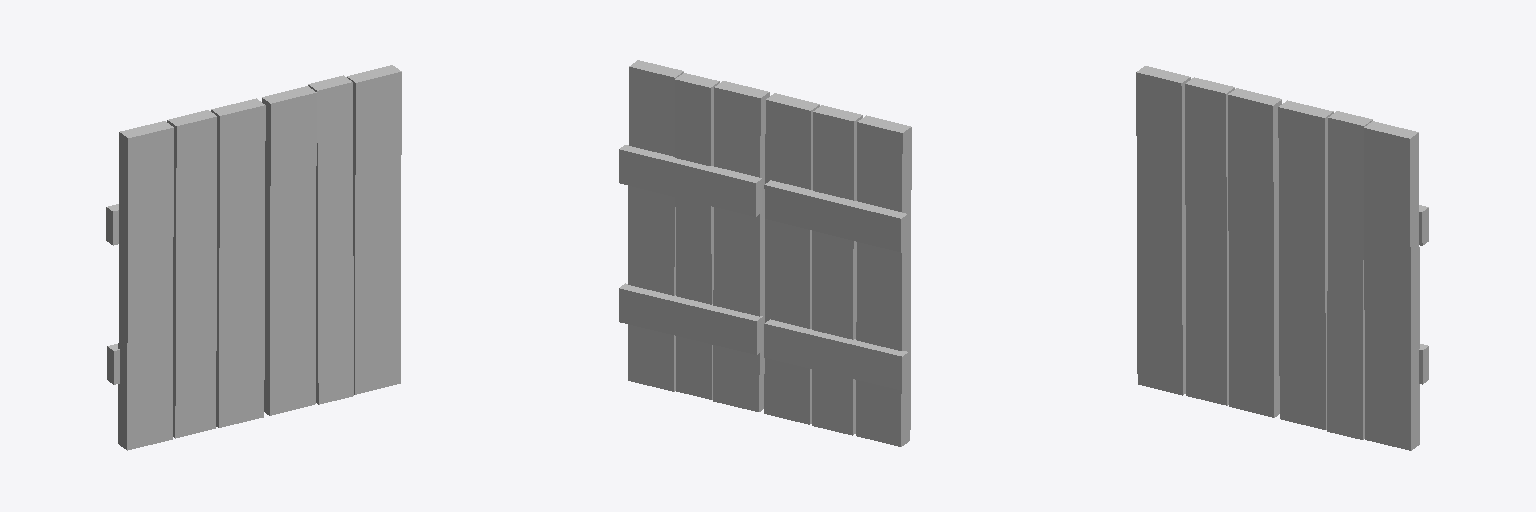
The model's file is WindowShutters_Wide_Flat_Closed.obj.
3 views of the same model, side by side, from view 1: azimuth 30°, elevation 25°; view 2: azimuth 150°, elevation 25°; view 3: azimuth 330°, elevation 25° (orthographic).
Parts seen in each view (by area): view 1: WindowShutters_Wide_Flat_Closed; view 2: WindowShutters_Wide_Flat_Closed; view 3: WindowShutters_Wide_Flat_Closed.
Part boxes in pixels (x1,y1,x2,y2): WindowShutters_Wide_Flat_Closed: (106,65,401,450); WindowShutters_Wide_Flat_Closed: (619,60,911,446); WindowShutters_Wide_Flat_Closed: (1136,66,1428,450).
Bounding box in the file's own units: 1.35 × 1.42 × 0.1358.